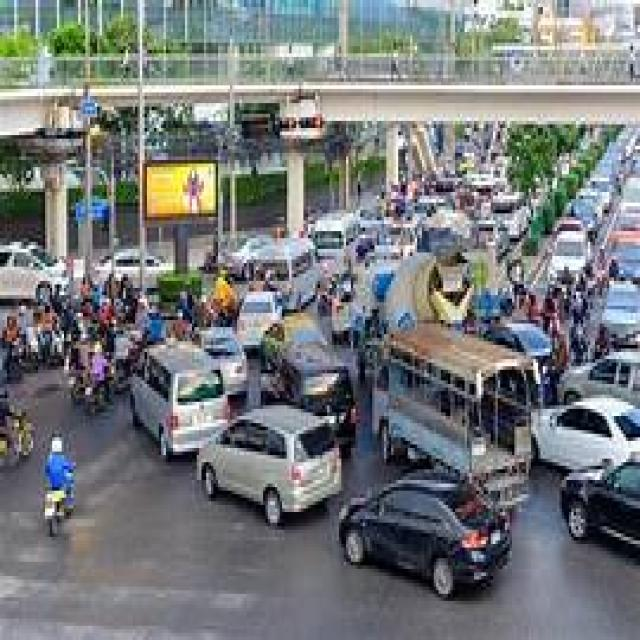Car: (177, 315, 355, 524), (341, 472, 509, 597), (533, 398, 640, 547), (131, 347, 229, 457), (201, 328, 247, 395), (237, 292, 283, 349)
Two Wheeler: (44, 492, 74, 535)
